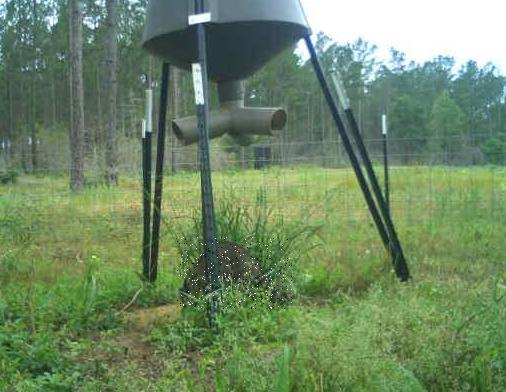Raccoon: (177, 237, 292, 309)
